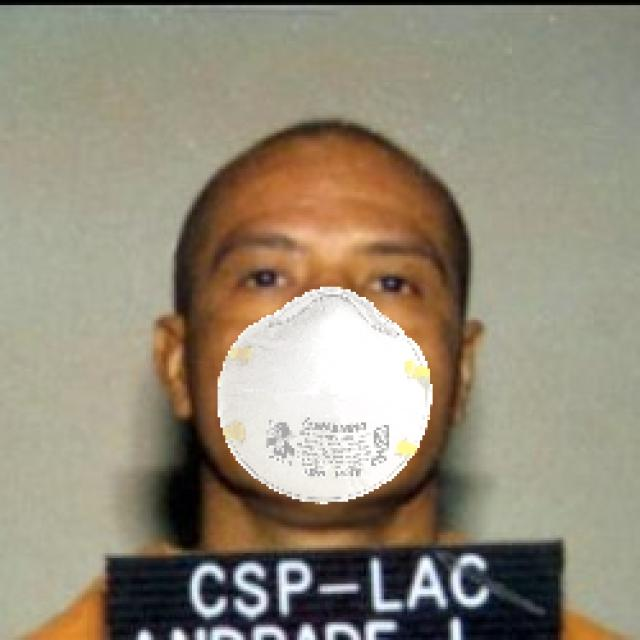mask: (216, 264, 443, 504)
